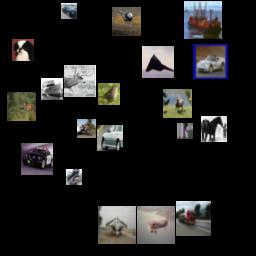airplane: (98, 206, 136, 244), (137, 206, 175, 244), (142, 46, 174, 78)
automobile: (193, 44, 228, 79), (21, 143, 53, 175), (97, 125, 123, 151), (61, 3, 77, 19)
bird: (112, 7, 141, 36), (98, 83, 120, 105)
deer: (64, 65, 96, 97), (7, 92, 36, 121), (163, 89, 192, 118)
dog: (12, 39, 34, 61), (177, 123, 193, 139)
ship: (184, 1, 222, 39), (41, 78, 63, 100)
truck: (176, 201, 211, 236), (77, 119, 96, 138), (66, 169, 82, 185)
